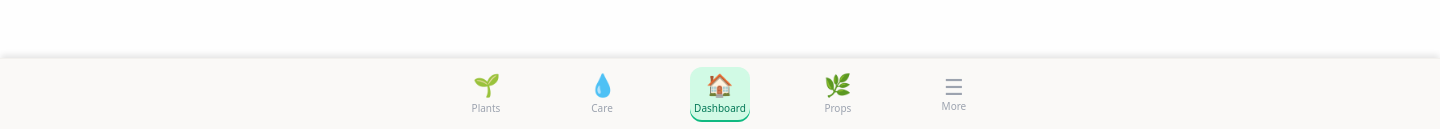
Test: BottomNavigation › Accessibility › should have proper ARIA attributes for overflow menu
Click the button with aria-label "more navigation options".
click(954, 94)  # box x1=926 y1=68 x2=982 y2=120
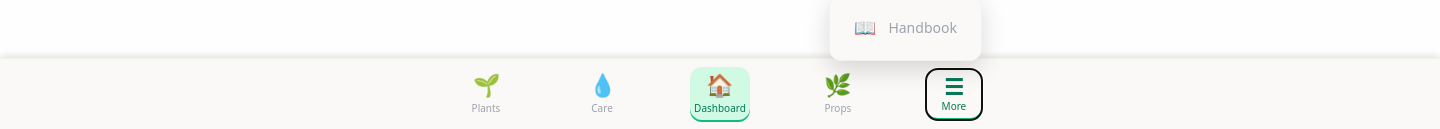
Expected: the button with aria-label "more navigation options" is expanded, x1=926 y1=68 x2=982 y2=120
